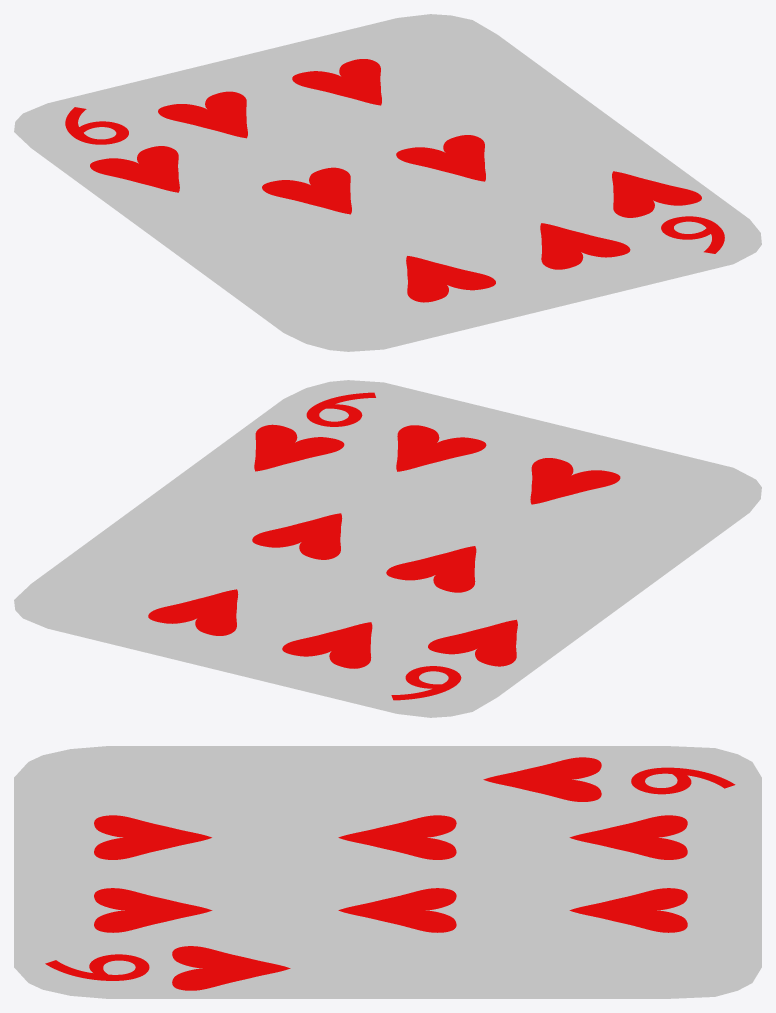
3 views of the same model, one above another, from view 1: azimuth 30°, elevation 25°; view 2: azimuth 150°, elevation 25°; view 3: azimuth 270°, elevation 25° (orthographic). The views are drawn at different scales.
Visible parts, largest first — view 1: 6ofHearts, Plane.029_Red, Plane.024_Red, Plane.028_Red, Plane.031_Red, Plane.030_Red, Plane.026_Red, Plane.025_Red, Plane.027_Red, Font.011_Bla_Blac.002, Font.012_Bla_Blac.002; view 2: 6ofHearts, Plane.029_Red, Plane.028_Red, Plane.025_Red, Plane.024_Red, Plane.031_Red, Plane.026_Red, Plane.030_Red, Plane.027_Red, Font.012_Bla_Blac.002, Font.011_Bla_Blac.002; view 3: 6ofHearts, Plane.029_Red, Plane.025_Red, Plane.028_Red, Plane.031_Red, Plane.024_Red, Plane.026_Red, Plane.030_Red, Plane.027_Red, Font.011_Bla_Blac.002, Font.012_Bla_Blac.002.
Boxes of the visible parts, x1=… form: 6ofHearts: x1=14, y1=14, x2=761, y2=351; Plane.029_Red: x1=540, y1=223, x2=630, y2=269; Plane.024_Red: x1=612, y1=171, x2=701, y2=217; Plane.028_Red: x1=406, y1=256, x2=495, y2=302; Plane.031_Red: x1=262, y1=167, x2=351, y2=214; Plane.030_Red: x1=396, y1=135, x2=485, y2=181; Plane.026_Red: x1=158, y1=91, x2=247, y2=138; Plane.025_Red: x1=90, y1=146, x2=179, y2=192; Plane.027_Red: x1=292, y1=59, x2=381, y2=105; Font.011_Bla_Blac.002: x1=65, y1=107, x2=128, y2=144; Font.012_Bla_Blac.002: x1=661, y1=216, x2=724, y2=253; 6ofHearts: x1=14, y1=380, x2=761, y2=717; Plane.029_Red: x1=396, y1=425, x2=486, y2=471; Plane.028_Red: x1=530, y1=458, x2=620, y2=504; Plane.025_Red: x1=428, y1=619, x2=517, y2=666; Plane.024_Red: x1=254, y1=424, x2=344, y2=471; Plane.031_Red: x1=386, y1=546, x2=476, y2=592; Plane.026_Red: x1=282, y1=622, x2=372, y2=668; Plane.030_Red: x1=252, y1=513, x2=342, y2=559; Plane.027_Red: x1=148, y1=589, x2=238, y2=635; Font.012_Bla_Blac.002: x1=306, y1=392, x2=375, y2=426; Font.011_Bla_Blac.002: x1=391, y1=666, x2=461, y2=700; 6ofHearts: x1=14, y1=746, x2=761, y2=998; Plane.029_Red: x1=94, y1=888, x2=212, y2=932; Plane.025_Red: x1=483, y1=757, x2=601, y2=801; Plane.028_Red: x1=94, y1=815, x2=211, y2=859; Plane.031_Red: x1=338, y1=815, x2=456, y2=859; Plane.024_Red: x1=172, y1=946, x2=290, y2=990; Plane.026_Red: x1=569, y1=815, x2=687, y2=859; Plane.030_Red: x1=338, y1=888, x2=456, y2=932; Plane.027_Red: x1=569, y1=888, x2=687, y2=932; Font.011_Bla_Blac.002: x1=631, y1=767, x2=735, y2=794; Font.012_Bla_Blac.002: x1=45, y1=954, x2=149, y2=980.
Bounding box in the file's own units: 1.6 × 0.00355 × 2.
